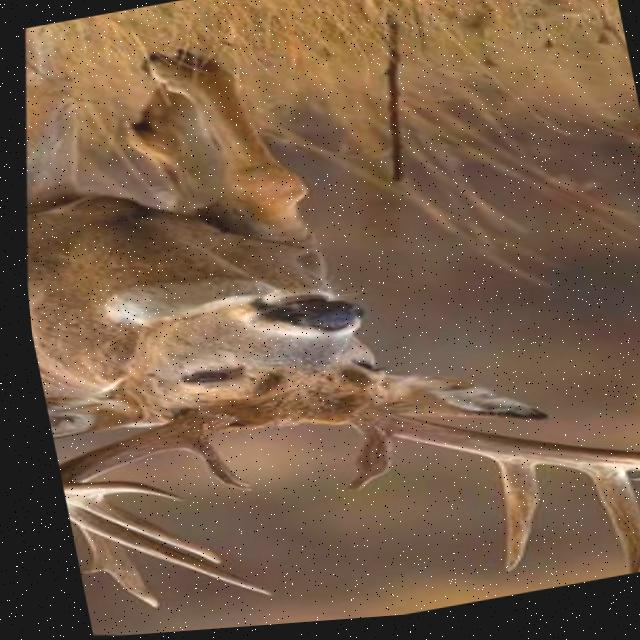L-F: (49, 411, 226, 504)
L-G1: (169, 438, 248, 494)
L-G3: (56, 503, 267, 601)
L-G4: (55, 494, 213, 566)
R-F: (338, 410, 640, 481)
R-G1: (331, 434, 384, 498)
R-G2: (475, 463, 530, 580)
R-G3: (557, 475, 639, 583)
